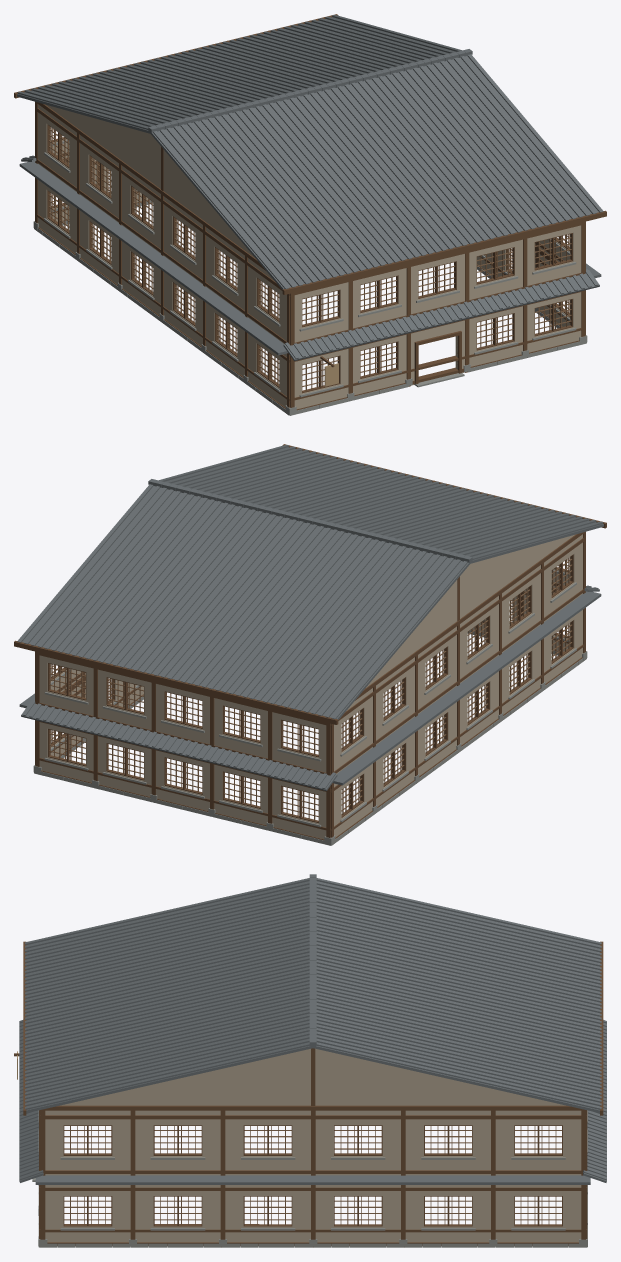
Rendered from InnExterior_v001.fbx.
3 renders of one model, top to bottom at view 1: azimuth 30°, elevation 25°; view 2: azimuth 150°, elevation 25°; view 3: azimuth 270°, elevation 25°, orthographic. The views are drawn at different scales.
Parts seen in each view (by area): view 1: RoofTile_-1, RoofSlope_-1, RoofTile_1, Wall_West, Wall_South, Windows_West, Windows_South, Frame_West, RoofSlope_1, Frame_South, LowerEave_South, Gable (+7 smaller); view 2: RoofTile_1, RoofSlope_1, RoofTile_-1, Wall_West, Wall_North, Windows_North, Windows_West, Frame_West, RoofSlope_-1, Frame_North, LowerEave_North, Gable (+6 smaller); view 3: RoofTile_1, RoofTile_-1, Wall_East, Frame_East, Gable, RoofSlope_-1, RoofSlope_1, Windows_East, LowerEave_East, StoneBase, LowerEave_South, LowerEave_North (+2 smaller).
Boxes of the visible parts, bbox=[...] form: RoofTile_-1: bbox=[153, 54, 603, 289]; RoofSlope_-1: bbox=[150, 55, 602, 289]; RoofTile_1: bbox=[17, 15, 461, 129]; Wall_West: bbox=[38, 104, 286, 407]; Wall_South: bbox=[294, 225, 581, 408]; Windows_West: bbox=[44, 124, 280, 392]; Windows_South: bbox=[299, 233, 576, 397]; Frame_West: bbox=[33, 101, 296, 414]; RoofSlope_1: bbox=[17, 17, 456, 133]; Frame_South: bbox=[286, 221, 586, 414]; LowerEave_South: bbox=[283, 269, 599, 361]; Gable: bbox=[46, 105, 254, 257]; RoofTile_1: bbox=[17, 484, 467, 719]; RoofSlope_1: bbox=[18, 485, 470, 719]; RoofTile_-1: bbox=[159, 445, 603, 559]; Wall_West: bbox=[334, 534, 582, 837]; Wall_North: bbox=[39, 655, 326, 838]; Windows_North: bbox=[44, 663, 321, 827]; Windows_West: bbox=[340, 554, 576, 822]; Frame_West: bbox=[324, 531, 587, 844]; RoofSlope_-1: bbox=[164, 447, 603, 563]; Frame_North: bbox=[34, 651, 334, 844]; LowerEave_North: bbox=[21, 699, 337, 791]; Gable: bbox=[366, 535, 574, 687]; RoofTile_1: bbox=[316, 878, 601, 1109]; RoofTile_-1: bbox=[25, 878, 309, 1109]; Wall_East: bbox=[45, 1110, 581, 1242]; Frame_East: bbox=[39, 1105, 587, 1247]; Gable: bbox=[60, 1048, 565, 1105]; RoofSlope_-1: bbox=[26, 881, 313, 1112]; RoofSlope_1: bbox=[313, 881, 599, 1112]; Windows_East: bbox=[60, 1125, 565, 1230]; LowerEave_East: bbox=[35, 1175, 590, 1184]; StoneBase: bbox=[38, 1194, 587, 1247]; LowerEave_South: bbox=[19, 1020, 43, 1182]; LowerEave_North: bbox=[583, 1020, 606, 1182].
Size of the model in its own units: 2220 by 1294 by 3290.
